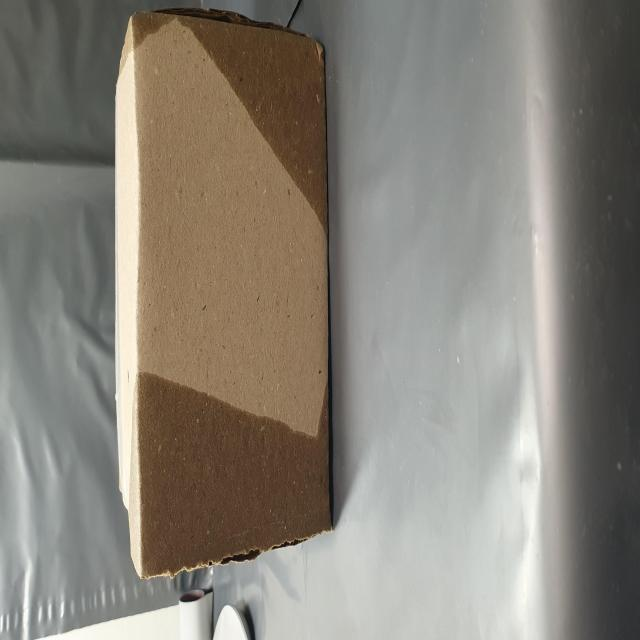wet: (43, 237, 146, 574), (254, 245, 348, 572)
